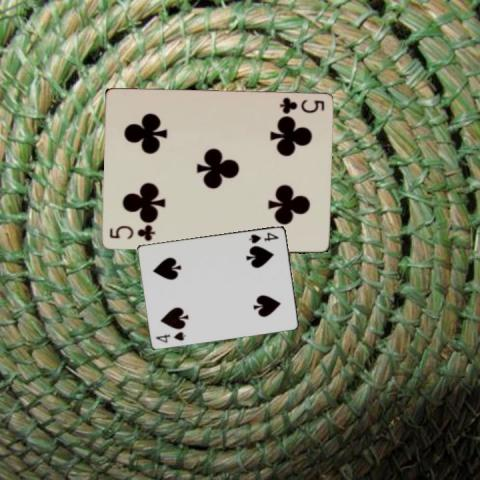4s: (246, 229, 280, 245), (153, 329, 187, 344)
5c: (276, 95, 326, 115), (107, 224, 156, 243)
